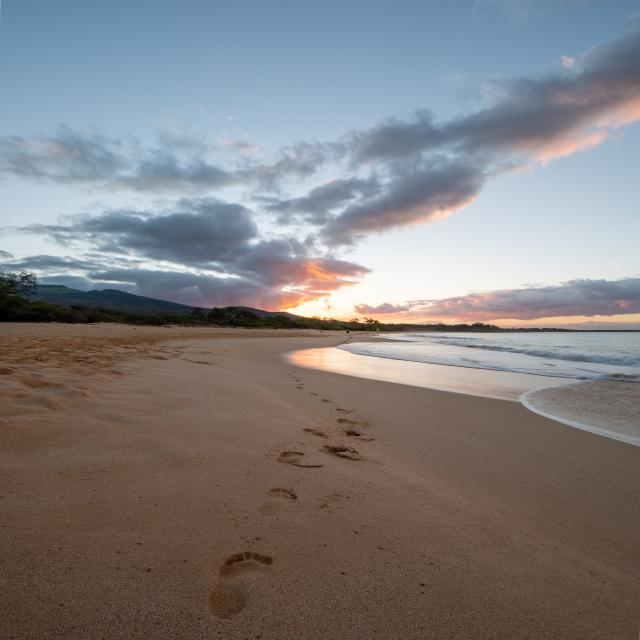human_foot_print: (174, 408, 374, 632)
